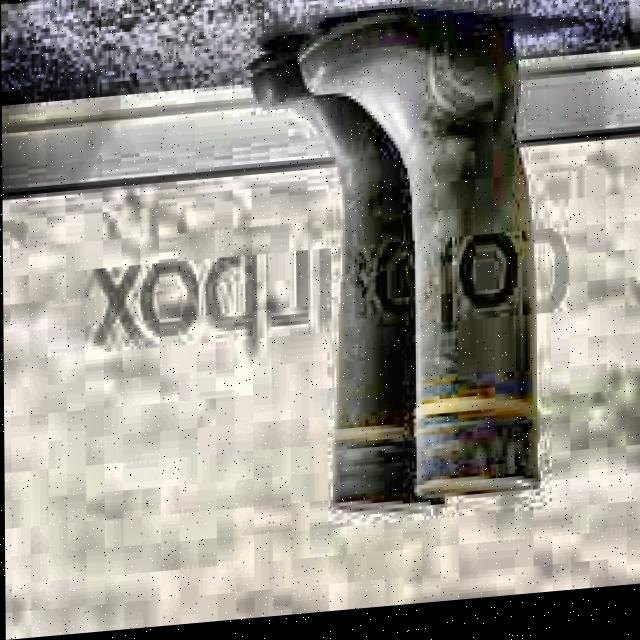shoes: (235, 0, 569, 552)
